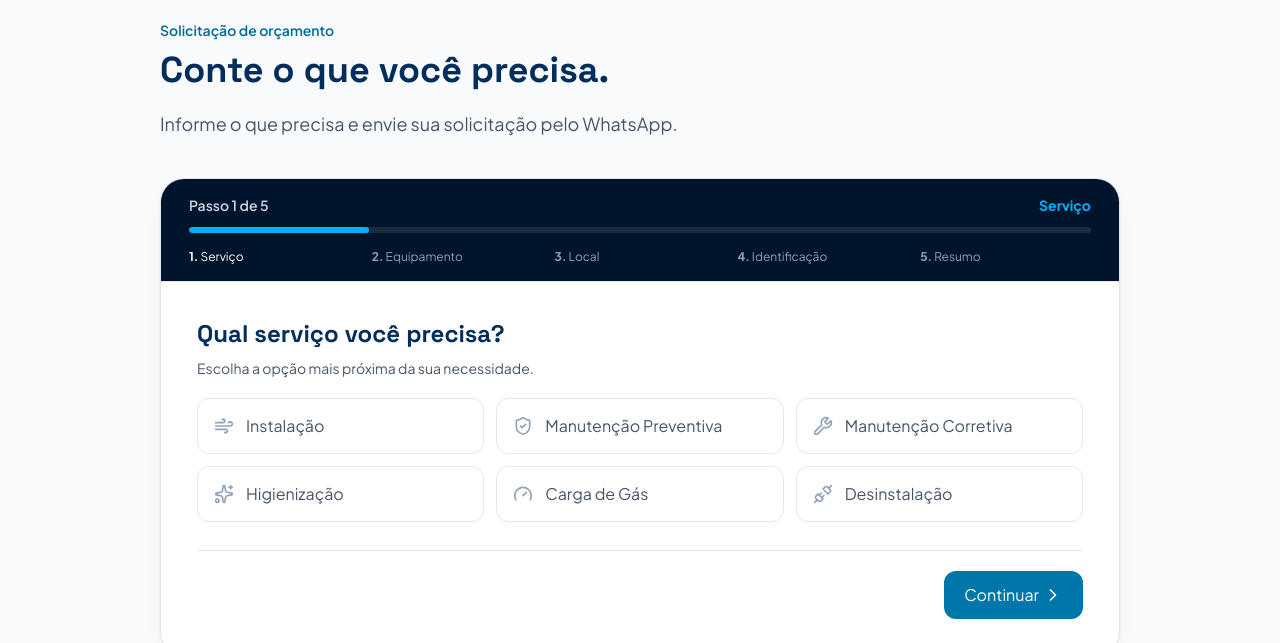
BudgetSimulator Component › permite voltar para revisar uma etapa anterior
The width and height of the screenshot is (1280, 643).
Click the button "Instalação". click: (285, 426)
box: [197, 398, 484, 454]
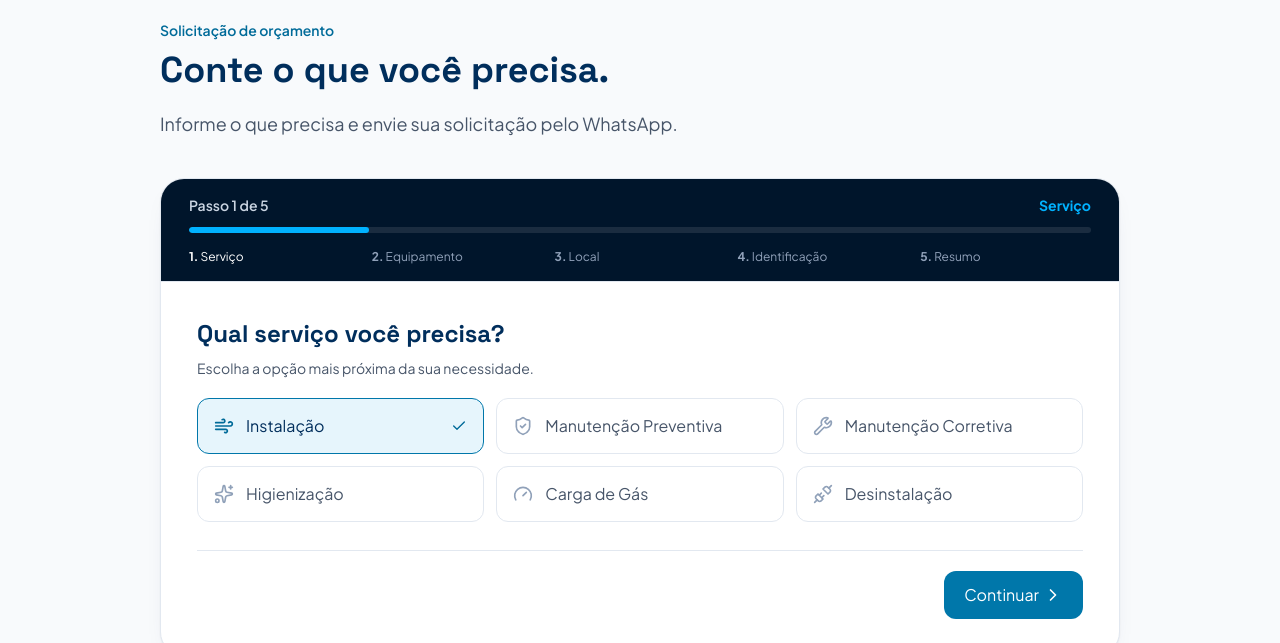
Click the button "Continuar". click: (1014, 595)
box: [944, 571, 1083, 619]
(page scrolled)
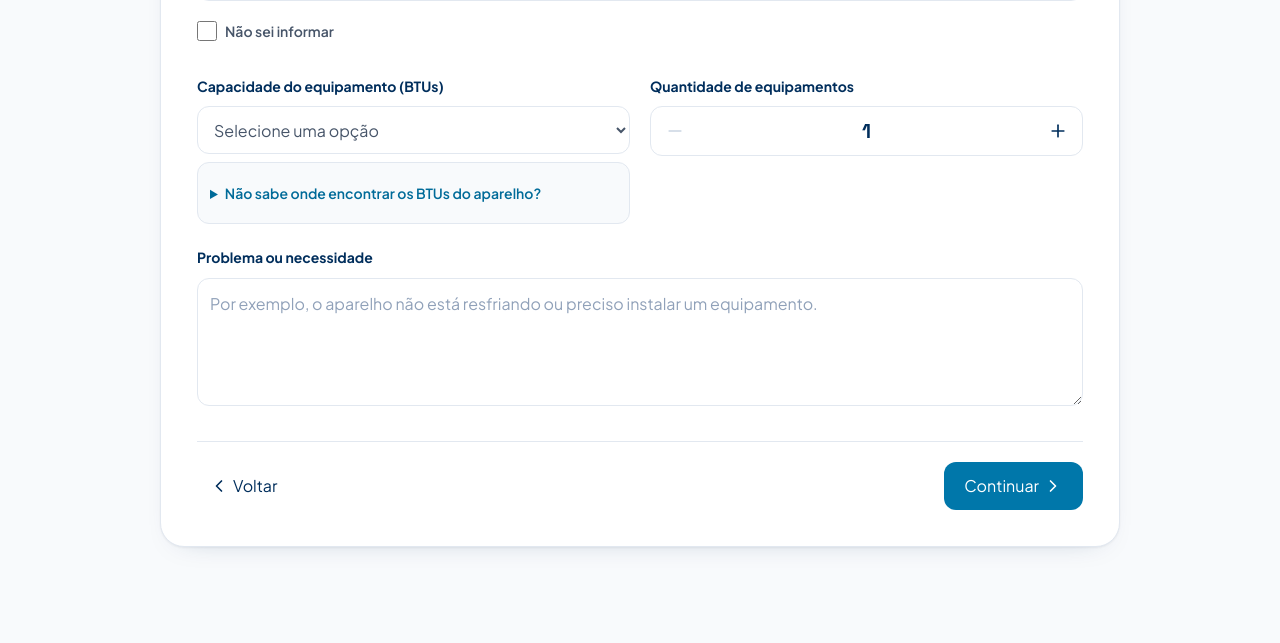
Click the button "Voltar". click: (243, 486)
box: [197, 462, 289, 510]
(page scrolled)
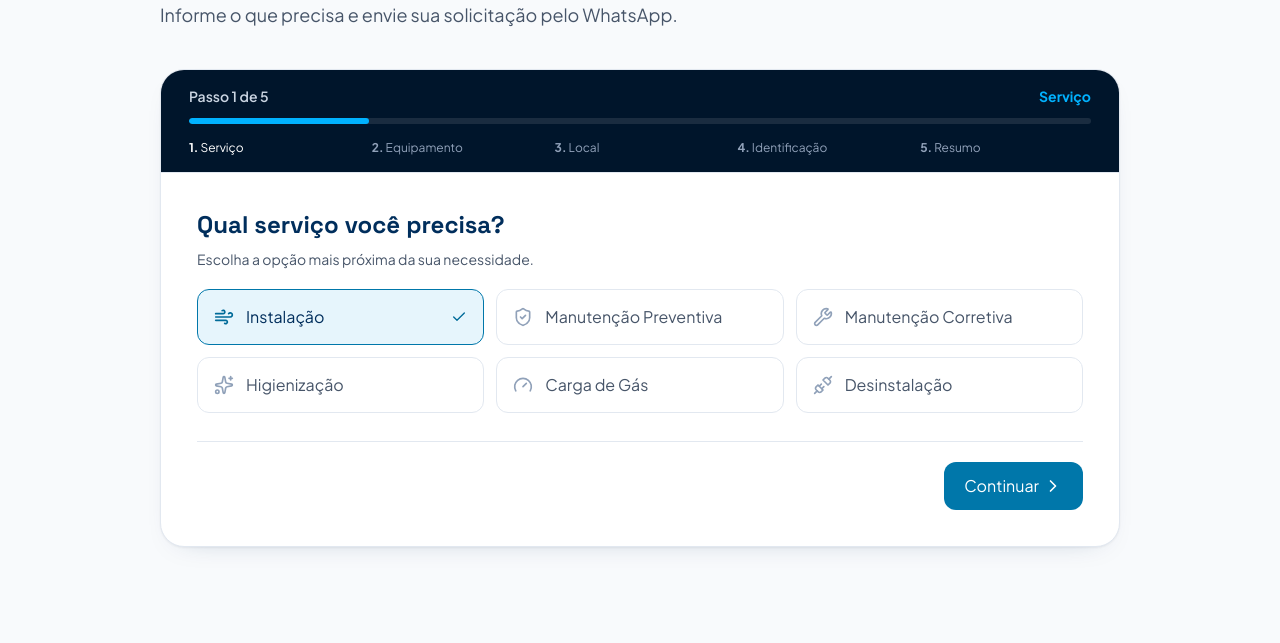
Result: the text "Qual serviço você precisa?" is shown at [197, 209, 504, 241]
